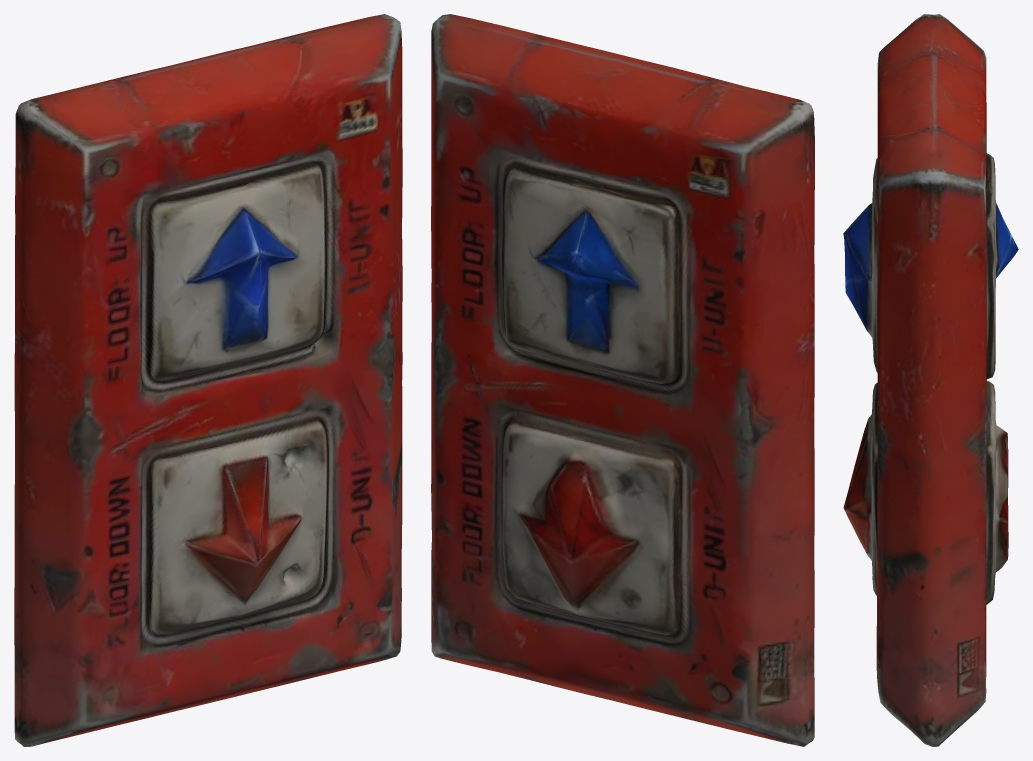
File: elevator_button_panel.glb
3 renders of one model, left to right at view 1: azimuth 30°, elevation 25°; view 2: azimuth 150°, elevation 25°; view 3: azimuth 270°, elevation 25°, orthographic. The views are drawn at different scales.
Parts seen in each view (by area): view 1: geometry_0; view 2: geometry_0; view 3: geometry_0.
Part boxes in pixels (<box>): geometry_0: <box>14,14,402,746</box>; geometry_0: <box>431,14,814,746</box>; geometry_0: <box>843,14,1018,746</box>.
Size of the model in its own units: 0.1361 by 0.22 by 0.0609.
Materials: 1 (1 with a texture image).
